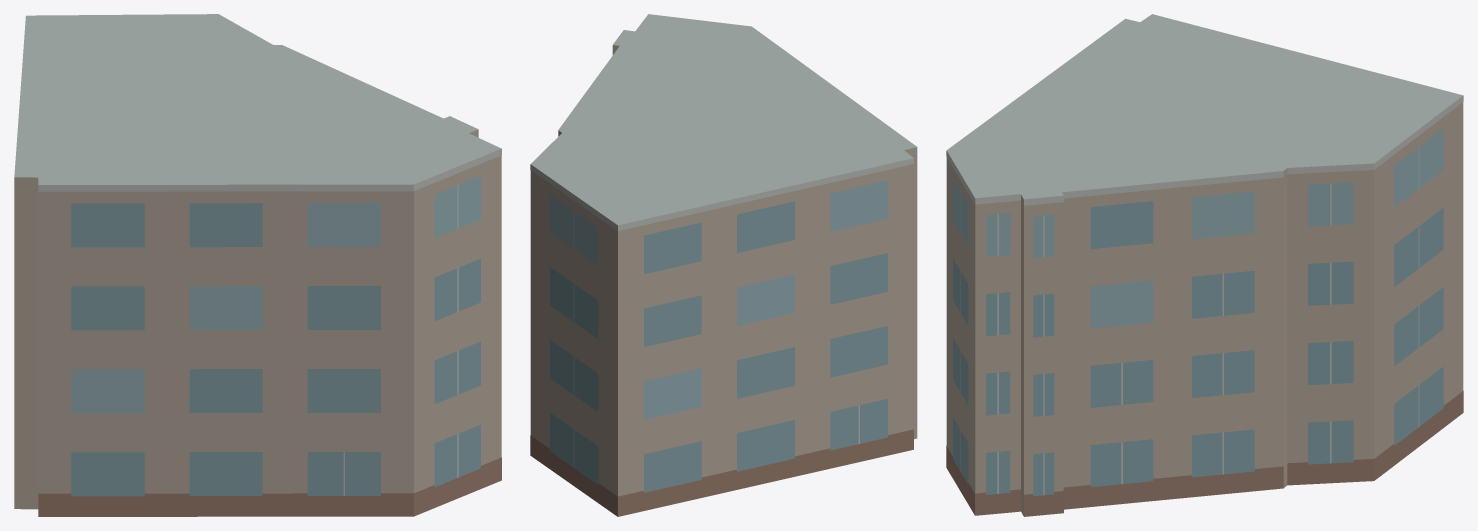
Rendered from survey-upis-32720241.glb.
3 views of the same model, side by side, from view 1: azimuth 30°, elevation 25°; view 2: azimuth 150°, elevation 25°; view 3: azimuth 270°, elevation 25° (orthographic). The views are drawn at different scales.
Parts seen in each view (by area): view 1: survey-upis-32720241.tmp; view 2: survey-upis-32720241.tmp; view 3: survey-upis-32720241.tmp.
Part boxes in pixels (bbox=[...]): survey-upis-32720241.tmp: bbox=[14, 14, 501, 516]; survey-upis-32720241.tmp: bbox=[530, 14, 917, 516]; survey-upis-32720241.tmp: bbox=[946, 14, 1463, 516].
Size of the model in its own units: 15.3 by 12.2 by 18.02.
